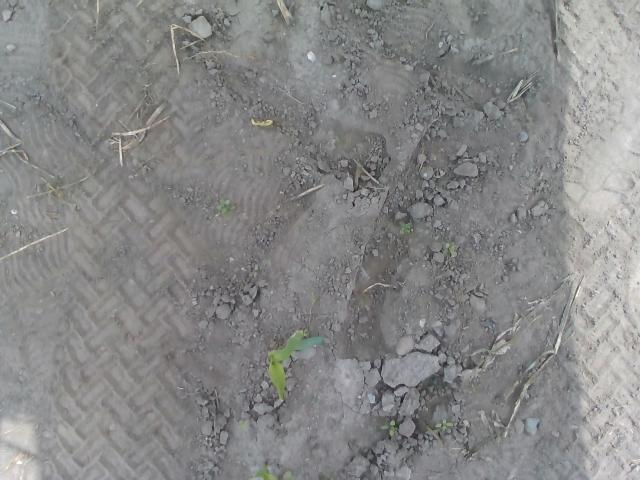Maize: (266, 330, 330, 398)
Weeds: (248, 463, 291, 480), (214, 196, 236, 215), (380, 418, 398, 437), (434, 418, 452, 434), (398, 221, 413, 236), (445, 242, 459, 258), (238, 419, 248, 432), (303, 330, 308, 336)
